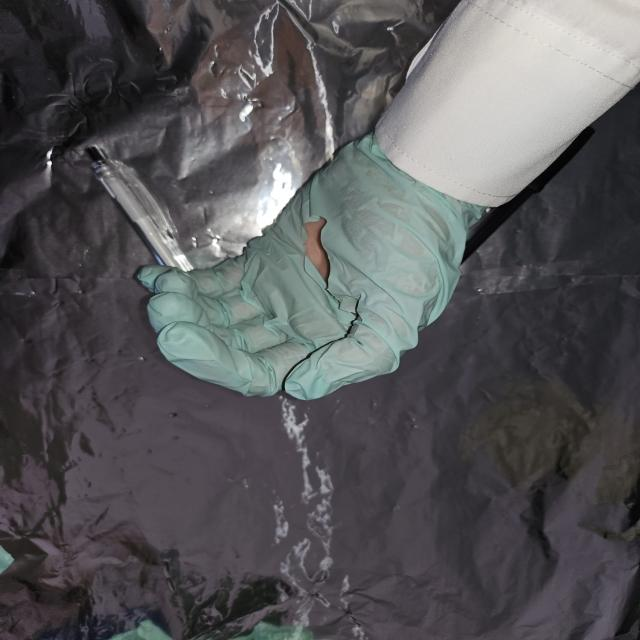gloves_damaged: (134, 129, 498, 401)
